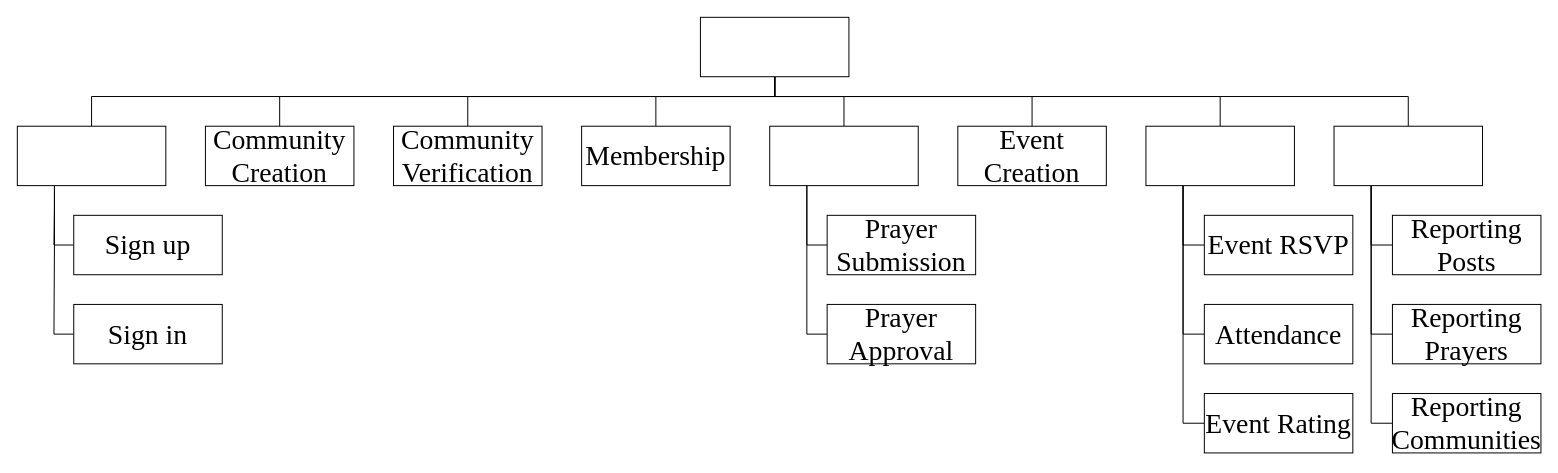
Image size: 1558x473. Some labels were removed from this diagram. The centre of each missing label's shape, as x and y in pixels:
Accounts: the point at 91,155
ConnexUs: the point at 774,46
Event Response: the point at 1219,155
Incident Handling: the point at 1408,155
Prayer Requests: the point at 843,155
